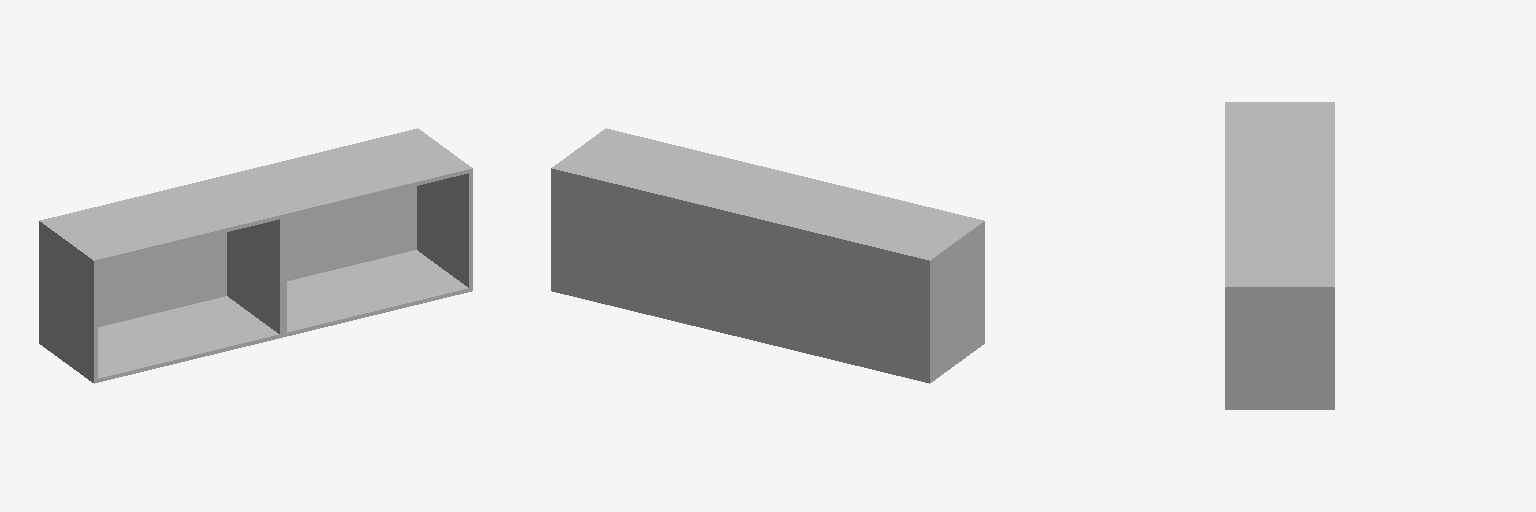
File: SehlV2f-0.obj
3 views of the same model, side by side, from view 1: azimuth 30°, elevation 25°; view 2: azimuth 150°, elevation 25°; view 3: azimuth 270°, elevation 25° (orthographic).
Parts seen in each view (by area): view 1: SehlV2f-0; view 2: SehlV2f-0; view 3: SehlV2f-0.
Part boxes in pixels (left/top/right/bottom): SehlV2f-0: left=39, top=128, right=472, bottom=383; SehlV2f-0: left=551, top=128, right=984, bottom=383; SehlV2f-0: left=1225, top=102, right=1334, bottom=409.
Size of the model in its own units: 100 by 31 by 25.